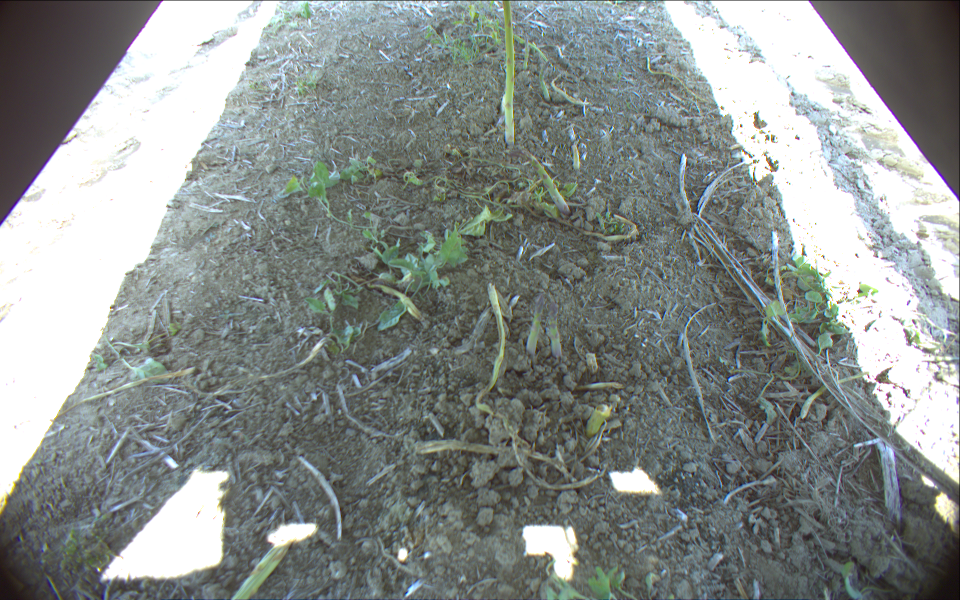aspa: (489, 22, 552, 101), (231, 537, 296, 600), (645, 55, 717, 103), (528, 152, 570, 216), (499, 1, 517, 145), (581, 401, 613, 439), (525, 295, 544, 354), (546, 297, 562, 358), (571, 143, 582, 171)
